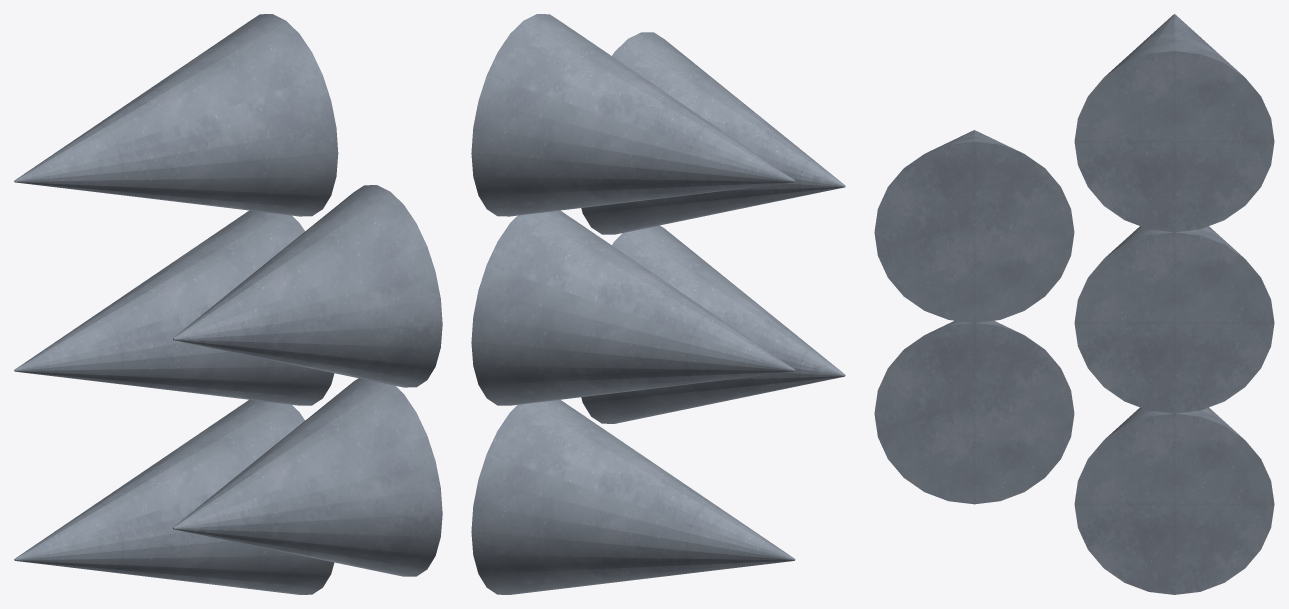
The model's file is Spikes.fbx.
3 renders of one model, left to right at view 1: azimuth 30°, elevation 25°; view 2: azimuth 150°, elevation 25°; view 3: azimuth 270°, elevation 25°, orthographic. The views are drawn at different scales.
Parts seen in each view (by area): view 1: mergedBlocks; view 2: mergedBlocks; view 3: mergedBlocks.
Part boxes in pixels (<box>): mergedBlocks: <box>14,14,442,594</box>; mergedBlocks: <box>471,14,845,594</box>; mergedBlocks: <box>874,14,1274,594</box>.
Size of the model in its own units: 15 by 30 by 20.
Materials: 1 (1 with a texture image).
